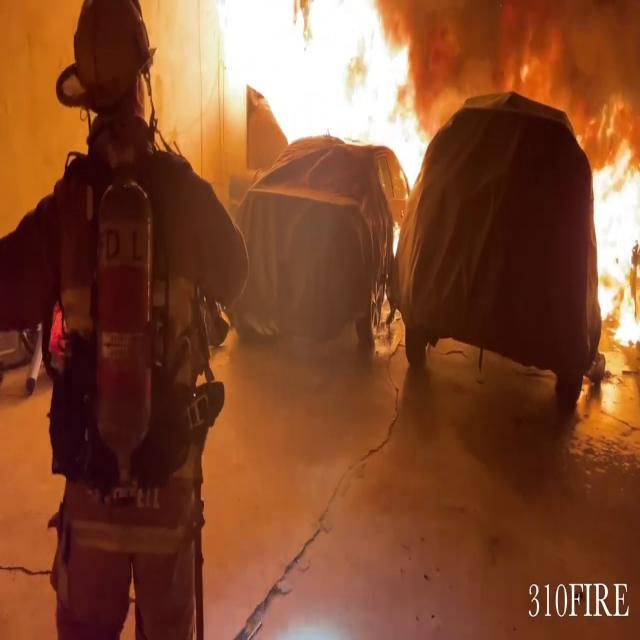Fire: (162, 0, 432, 179), (586, 127, 640, 360)
